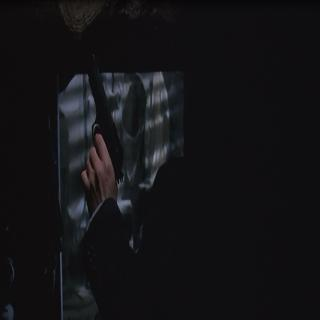gun: (80, 49, 126, 200)
